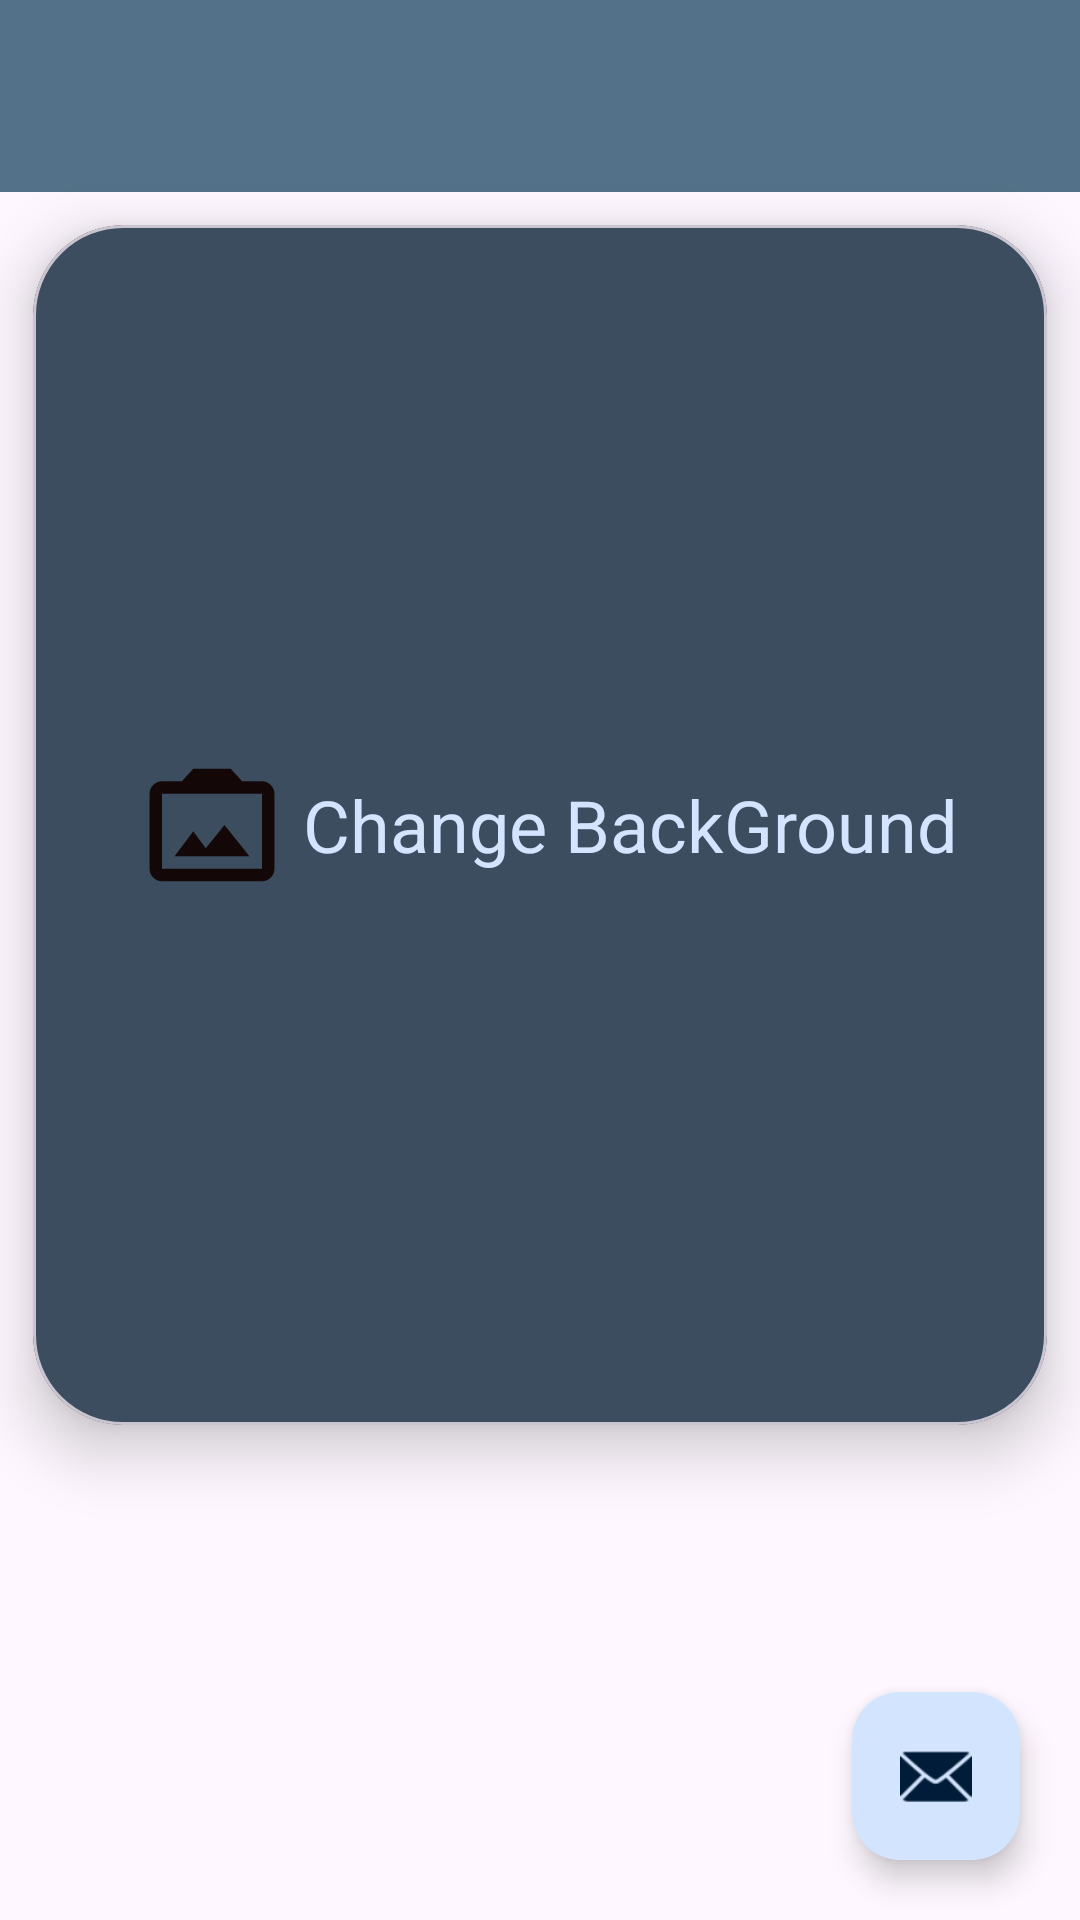

Named icons in this screenshot (1080 x 1920) and their bounding boxes, (x1, y1, x2, y2):
email: (852, 1692, 1020, 1860)
photo camera back: (149, 769, 275, 881)
